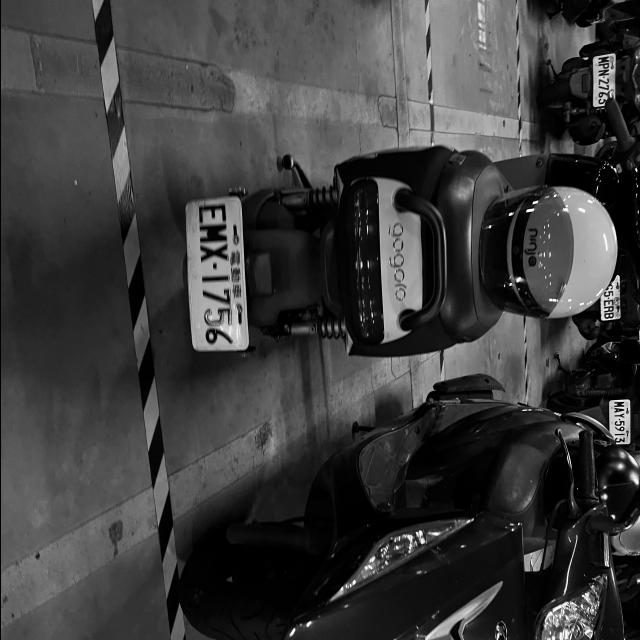-: (212, 262, 218, 269), (601, 76, 605, 78), (618, 418, 620, 421), (606, 297, 608, 299)
1: (200, 273, 230, 286), (614, 432, 624, 437)
2: (598, 78, 608, 85)
3: (614, 437, 624, 443)
5: (204, 306, 231, 326), (602, 290, 612, 297), (614, 421, 624, 426)
6: (205, 328, 232, 346), (597, 91, 607, 98)
7: (201, 284, 231, 306), (598, 84, 608, 90)
9: (614, 426, 624, 432)
A: (614, 408, 624, 413)
B: (603, 312, 613, 320)
E: (198, 202, 228, 224), (603, 300, 613, 306)
M: (198, 222, 228, 245), (597, 56, 609, 64), (614, 402, 624, 408)
N: (597, 69, 609, 76)
P: (597, 63, 609, 69)
R: (603, 306, 613, 313)
X: (199, 244, 229, 264)
Y: (612, 413, 624, 418)
plate: (190, 196, 242, 354), (592, 53, 613, 109), (610, 400, 628, 446)
